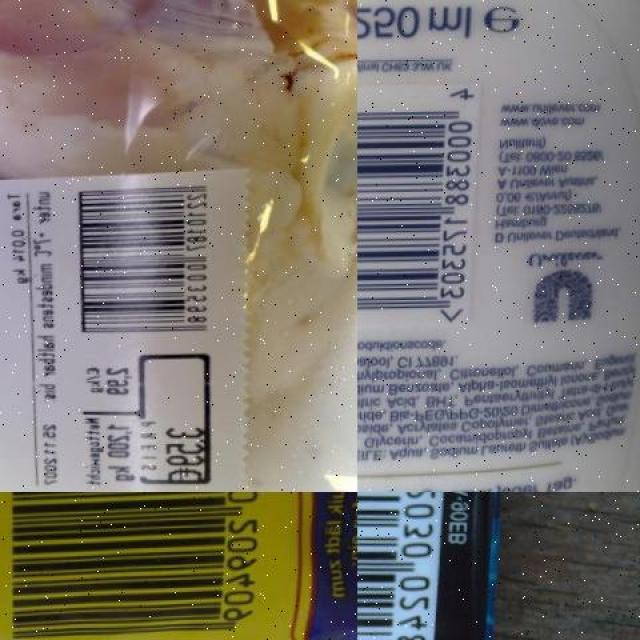Barcode: (0, 492, 279, 640), (357, 86, 484, 334), (63, 178, 234, 350), (357, 492, 448, 640)
